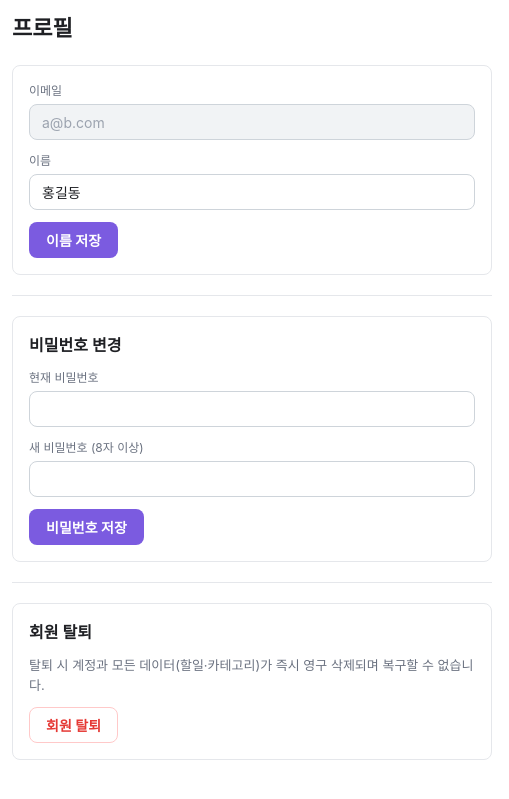
it: ProfilePage › 새 비번 8자 미만 → 검증 에러
Expected: the field labelled "이름" is shown, 29,174 -> 475,210
Type "CurrPw1234" into the password field labelled "현재 비밀번호" at [252, 409], box 29,391 -> 475,427
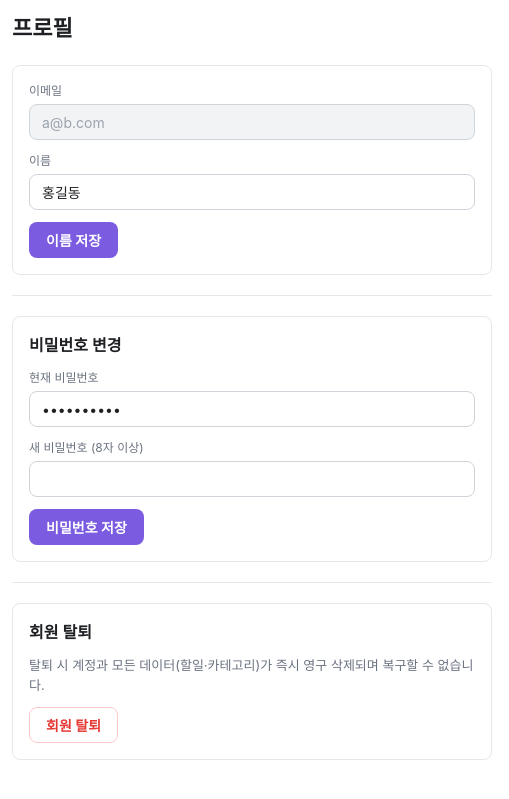
Type "123" into the password field labelled "새 비밀번호 (8자 이상)" at [252, 479], box 29,461 -> 475,497
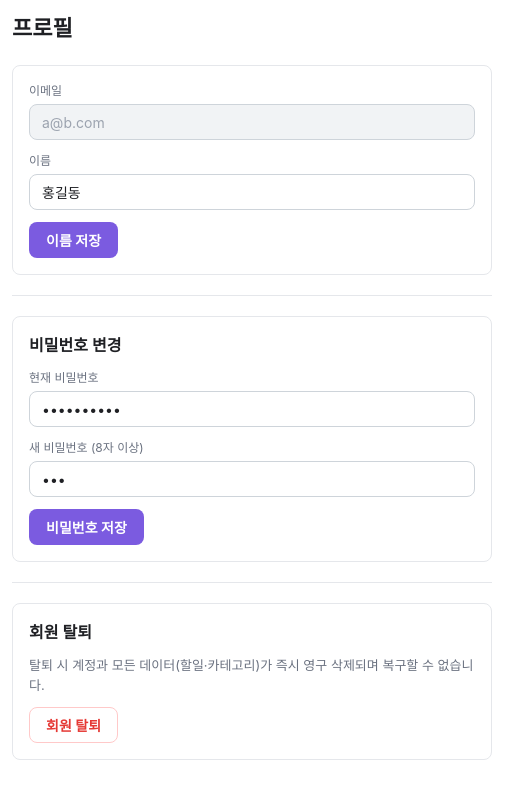
Click the button "비밀번호 저장" at [86, 527], box 29,509 -> 144,545
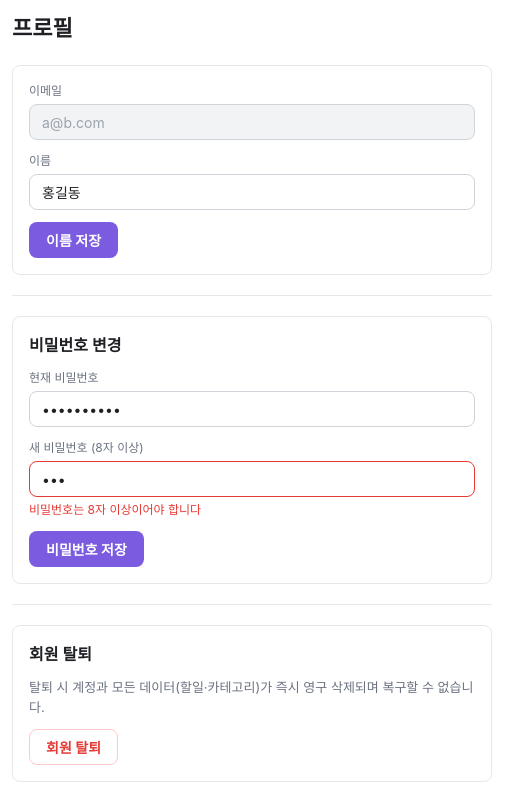
Expected: the text "비밀번호는 8자 이상이어야 합니다" is shown, 29,502 -> 201,517
